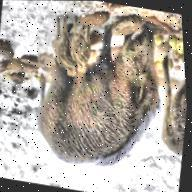boar: (15, 8, 177, 190), (63, 15, 101, 78), (42, 21, 78, 76)
